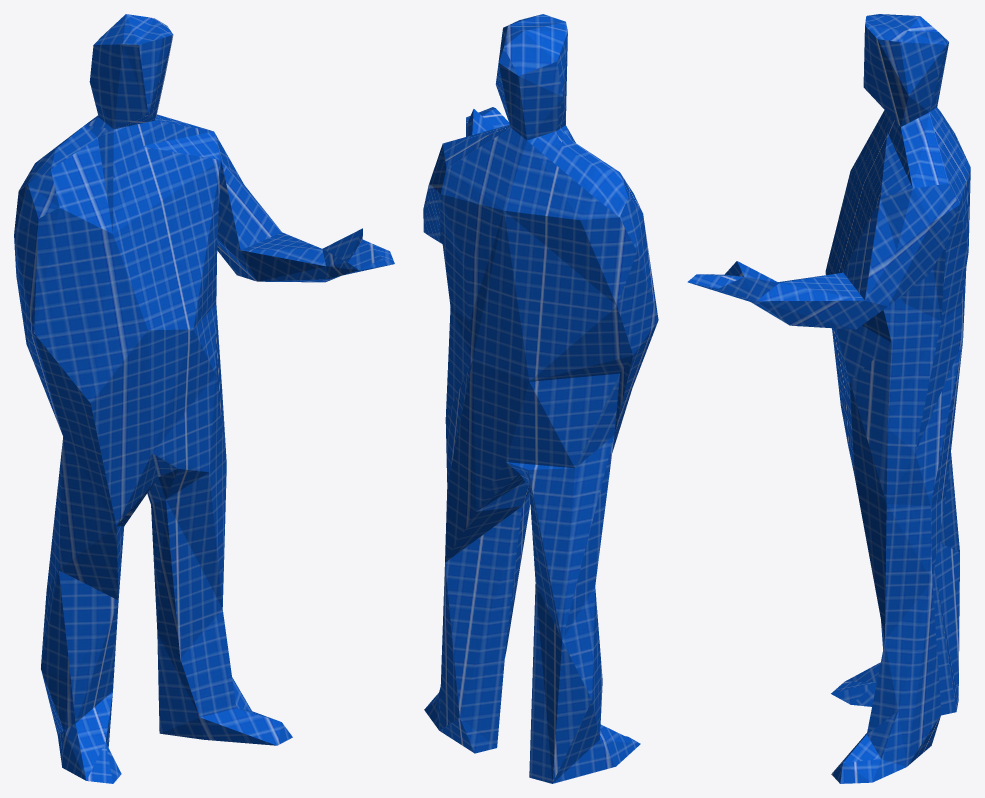
The model's file is man.glb.
3 renders of one model, left to right at view 1: azimuth 30°, elevation 25°; view 2: azimuth 150°, elevation 25°; view 3: azimuth 270°, elevation 25°, orthographic. The views are drawn at different scales.
Parts seen in each view (by area): view 1: Man01; view 2: Man01; view 3: Man01.
Boxes of the visible parts, <box> form: Man01: <box>14,14,394,783</box>; Man01: <box>423,14,658,783</box>; Man01: <box>687,14,970,783</box>.
Size of the model in its own units: 0.6402 by 1.62 by 0.5874.
Materials: 1 (1 with a texture image).
